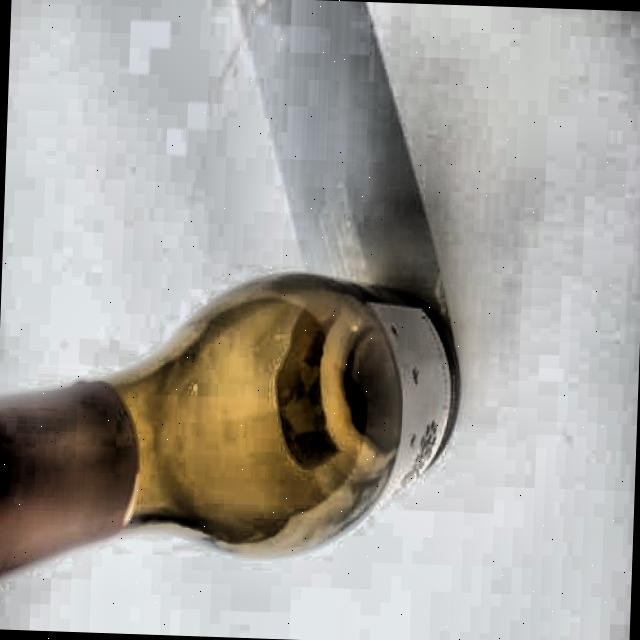glass: (0, 258, 465, 596)
